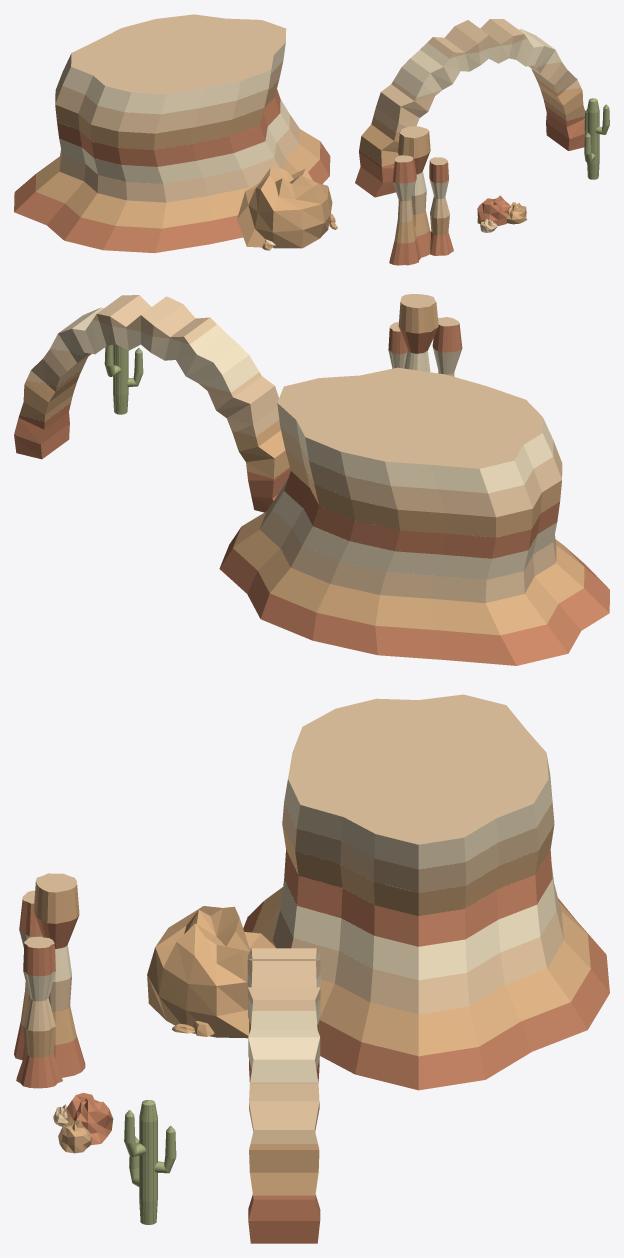
Rendered from desert-canyons-and-oases-mesa-rim-and-arch-f5ebac51__21036.glb.
3 views of the same model, one above another, from view 1: azimuth 30°, elevation 25°; view 2: azimuth 150°, elevation 25°; view 3: azimuth 270°, elevation 25° (orthographic). The views are drawn at different scales.
Parts seen in each view (by area): view 1: 000-mesa-block/8, 000-mesa-block/1, 000-mesa-block/0, 003-talus-cone/0, 000-mesa-block/2, 000-mesa-block/7, 000-mesa-block/6, 000-mesa-block/3, 001-natural-arch-large/3, 000-mesa-block/4, 000-mesa-block/5, 001-natural-arch-large/2 (+12 smaller); view 2: 000-mesa-block/8, 000-mesa-block/0, 000-mesa-block/1, 000-mesa-block/2, 000-mesa-block/7, 000-mesa-block/6, 001-natural-arch-large/3, 000-mesa-block/3, 000-mesa-block/4, 000-mesa-block/5, 001-natural-arch-large/2, 001-natural-arch-large/1 (+7 smaller); view 3: 000-mesa-block/8, 000-mesa-block/1, 000-mesa-block/0, 003-talus-cone/0, 000-mesa-block/3, 000-mesa-block/2, 000-mesa-block/4, 000-mesa-block/7, 000-mesa-block/6, 000-mesa-block/5, 001-natural-arch-large/3, 001-natural-arch-large/4 (+13 smaller).
Part boxes in pixels (bbox=[...]): 000-mesa-block/8: bbox=[71, 14, 286, 94]; 000-mesa-block/1: bbox=[35, 129, 320, 228]; 000-mesa-block/0: bbox=[14, 141, 330, 253]; 003-talus-cone/0: bbox=[237, 167, 332, 248]; 000-mesa-block/2: bbox=[59, 114, 299, 202]; 000-mesa-block/7: bbox=[62, 42, 285, 114]; 000-mesa-block/6: bbox=[55, 61, 283, 133]; 000-mesa-block/3: bbox=[59, 99, 289, 183]; 001-natural-arch-large/3: bbox=[393, 29, 561, 97]; 000-mesa-block/4: bbox=[57, 89, 280, 166]; 000-mesa-block/5: bbox=[55, 79, 279, 149]; 001-natural-arch-large/2: bbox=[373, 62, 580, 132]; 000-mesa-block/8: bbox=[277, 367, 542, 468]; 000-mesa-block/0: bbox=[219, 527, 609, 665]; 000-mesa-block/1: bbox=[233, 511, 584, 635]; 000-mesa-block/2: bbox=[259, 494, 556, 603]; 000-mesa-block/7: bbox=[277, 403, 553, 493]; 000-mesa-block/6: bbox=[280, 426, 562, 517]; 001-natural-arch-large/3: bbox=[50, 307, 259, 392]; 000-mesa-block/3: bbox=[272, 479, 557, 579]; 000-mesa-block/4: bbox=[284, 471, 559, 558]; 000-mesa-block/5: bbox=[285, 449, 561, 537]; 001-natural-arch-large/2: bbox=[26, 348, 279, 436]; 001-natural-arch-large/1: bbox=[19, 368, 289, 478]; 000-mesa-block/8: bbox=[288, 694, 548, 844]; 000-mesa-block/1: bbox=[252, 887, 590, 1056]; 000-mesa-block/0: bbox=[243, 898, 609, 1090]; 003-talus-cone/0: bbox=[147, 906, 275, 1038]; 000-mesa-block/3: bbox=[280, 865, 556, 980]; 000-mesa-block/2: bbox=[272, 883, 563, 1014]; 000-mesa-block/4: bbox=[284, 850, 552, 946]; 000-mesa-block/7: bbox=[284, 754, 552, 869]; 000-mesa-block/6: bbox=[282, 802, 554, 892]; 000-mesa-block/5: bbox=[282, 825, 554, 916]; 001-natural-arch-large/3: bbox=[247, 952, 320, 1082]; 001-natural-arch-large/4: bbox=[247, 948, 320, 1010].
Size of the model in its own units: 26.49 by 7 by 17.79.
